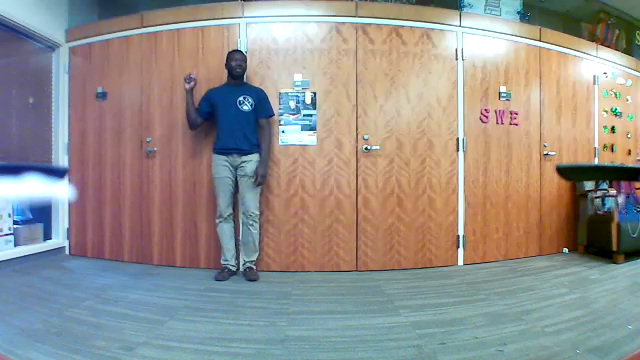up: (182, 61, 199, 99)
